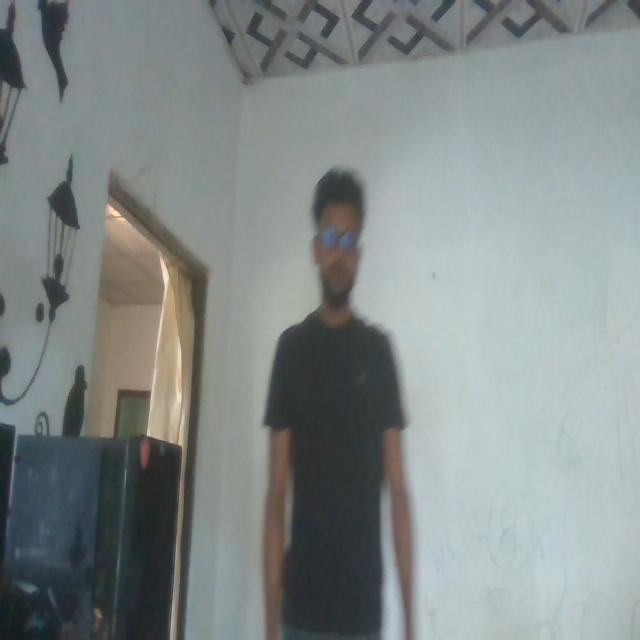Person: (257, 129, 419, 640)
